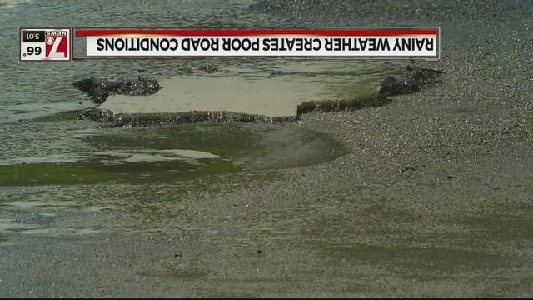pothole: (71, 57, 441, 128)
